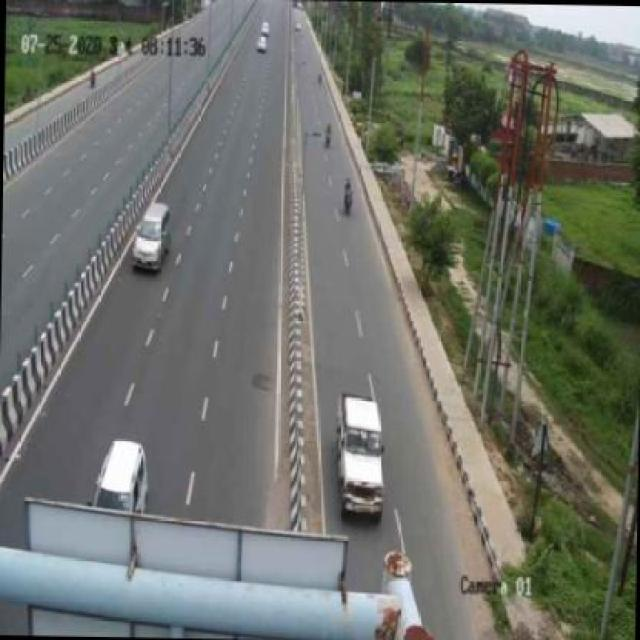car: (337, 382, 383, 518), (88, 431, 157, 511), (130, 197, 178, 274)
